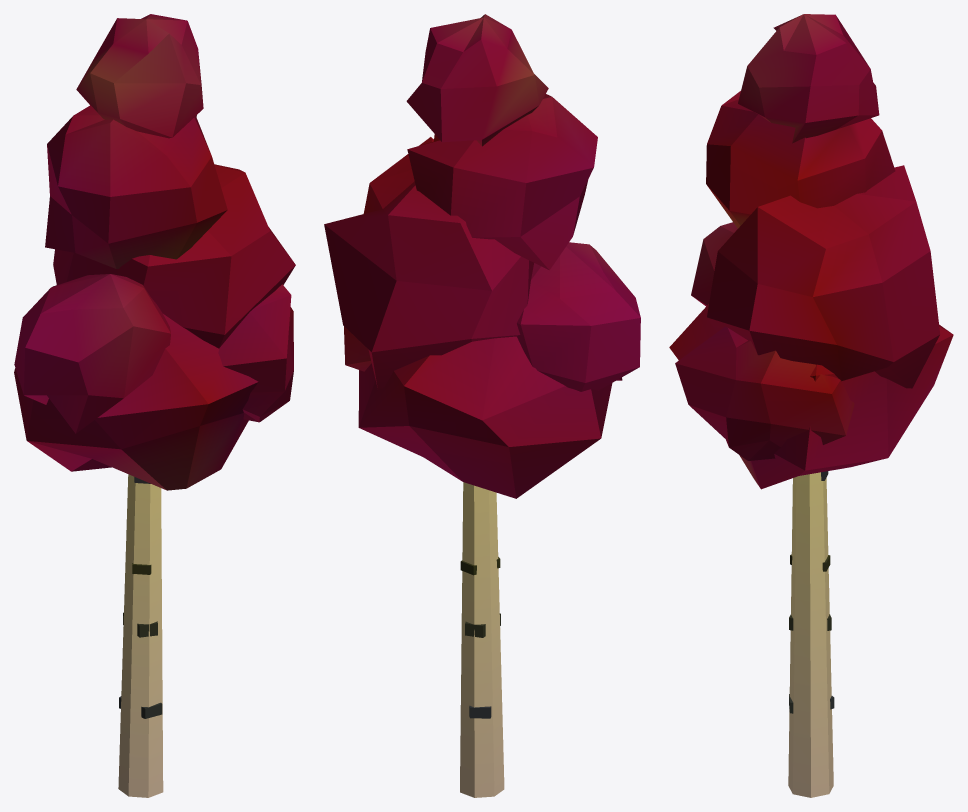
The model's file is Tree_Birch_01.glb.
The picture shows the model from 3 angles, left to right: view 1: azimuth 30°, elevation 25°; view 2: azimuth 150°, elevation 25°; view 3: azimuth 270°, elevation 25°; orthographic projection.
Visible parts, largest first — view 1: Tree_Birch_01; view 2: Tree_Birch_01; view 3: Tree_Birch_01.
Boxes of the visible parts, x1,y1,x2,y2 form: Tree_Birch_01: (14,14,295,797); Tree_Birch_01: (324,14,640,797); Tree_Birch_01: (669,14,953,797).
Bounding box in the file's own units: 2.31 × 6.23 × 2.07.
